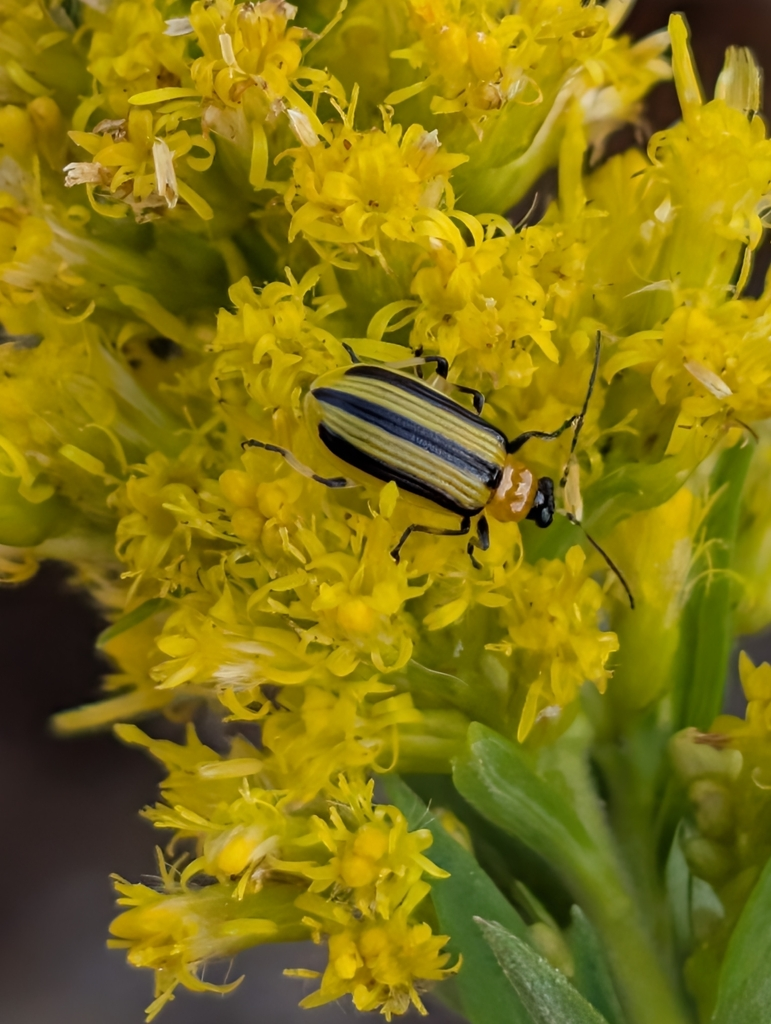potato_beetle: (164, 223, 723, 707)
